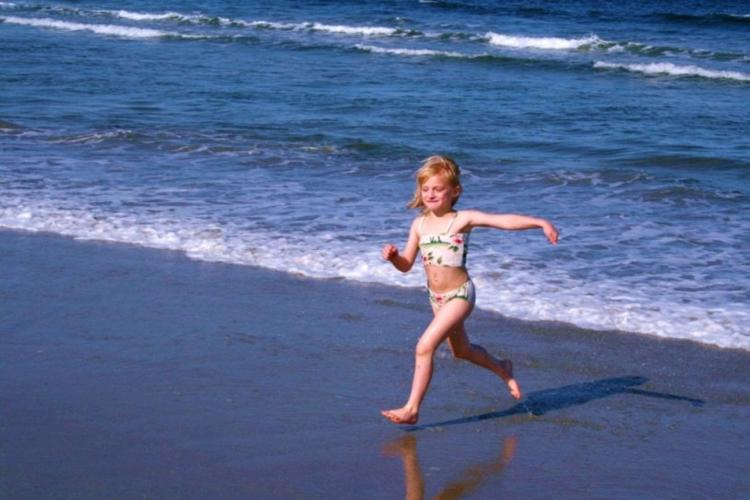person: (388, 153, 559, 424)
